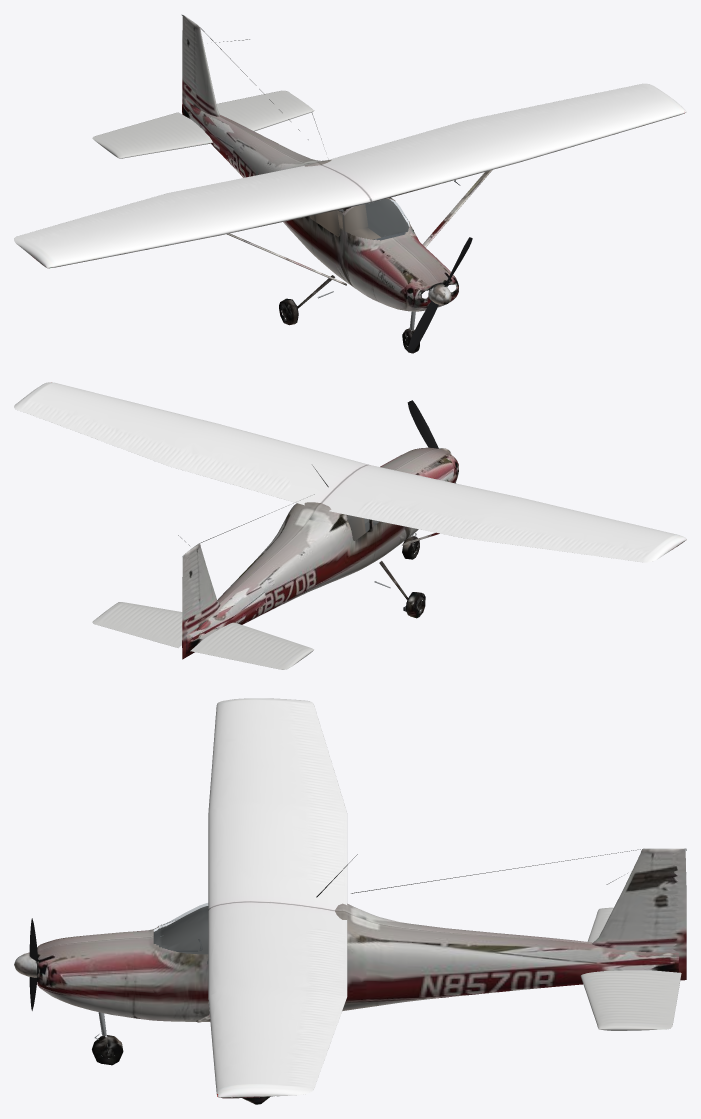
The picture shows the model from 3 angles, top to bottom: view 1: azimuth 30°, elevation 25°; view 2: azimuth 150°, elevation 25°; view 3: azimuth 270°, elevation 25°; orthographic projection. The views are drawn at different scales.
Visible parts, largest first — view 1: object 1, object 2, fuselage_glass; view 2: object 1, object 2; view 3: object 1, object 2, fuselage_glass.
Part boxes in pixels (x1,y1,x2,y2): object 1: (14, 15, 686, 311); object 2: (50, 14, 684, 353); fuselage_glass: (310, 198, 409, 240); object 1: (14, 382, 686, 669); object 2: (178, 400, 455, 618); object 1: (14, 698, 686, 1098); object 2: (29, 848, 686, 1104); fuselage_glass: (154, 903, 208, 963).
Bounding box in the file's own units: 10.97 × 2.81 × 7.9.
Materials: 18 (2 with a texture image).
